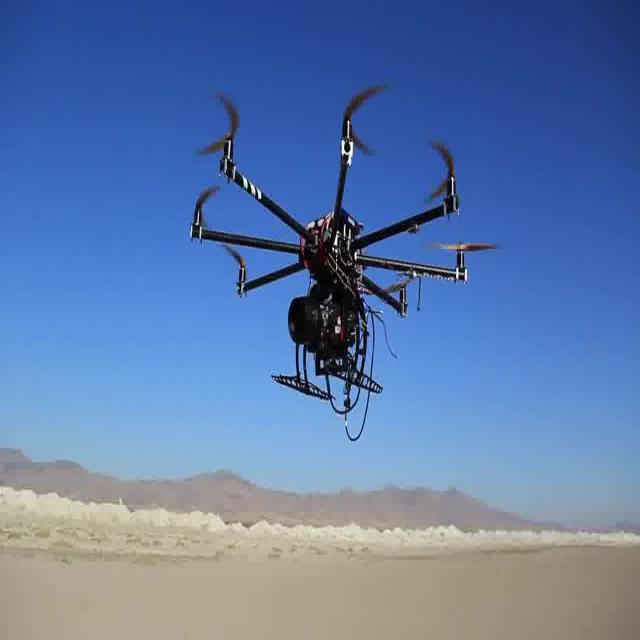drone: (186, 85, 498, 405)
